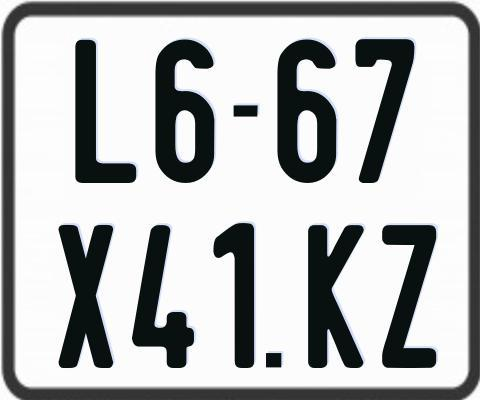1: (213, 221, 258, 370)
4: (131, 224, 195, 373)
6: (275, 38, 338, 188), (152, 38, 211, 187)
7: (353, 36, 418, 181)
K: (308, 223, 364, 371)
L: (74, 38, 140, 181)
X: (58, 225, 116, 372)
Z: (380, 225, 440, 371)
